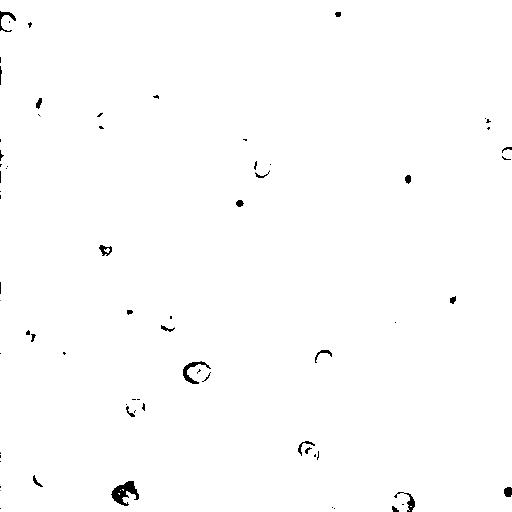micro-algae: (167, 317, 257, 403), (80, 145, 147, 211), (238, 351, 291, 402), (103, 380, 150, 424), (350, 254, 391, 296), (225, 125, 267, 163), (27, 89, 63, 126), (462, 272, 496, 308), (215, 482, 255, 512), (12, 13, 47, 47), (108, 297, 144, 330), (151, 305, 184, 335), (112, 466, 146, 494), (91, 108, 120, 139), (438, 282, 468, 310), (181, 360, 213, 386), (388, 313, 419, 339), (490, 473, 511, 511), (394, 163, 420, 193), (461, 84, 489, 111), (94, 162, 121, 187), (16, 326, 43, 351), (491, 9, 512, 41), (110, 485, 139, 508), (297, 439, 320, 466), (390, 490, 416, 512), (265, 100, 289, 123), (326, 3, 350, 26), (50, 340, 74, 362), (217, 153, 241, 175), (147, 441, 170, 463), (253, 154, 272, 178), (125, 397, 146, 418), (95, 235, 113, 258), (396, 84, 414, 107), (171, 422, 190, 441), (314, 349, 333, 368), (32, 470, 52, 488), (1, 11, 17, 33), (1, 151, 14, 177), (446, 71, 464, 88), (476, 116, 494, 133), (312, 503, 339, 512), (233, 196, 251, 209), (69, 1, 96, 9), (0, 57, 8, 81), (500, 145, 512, 161)
